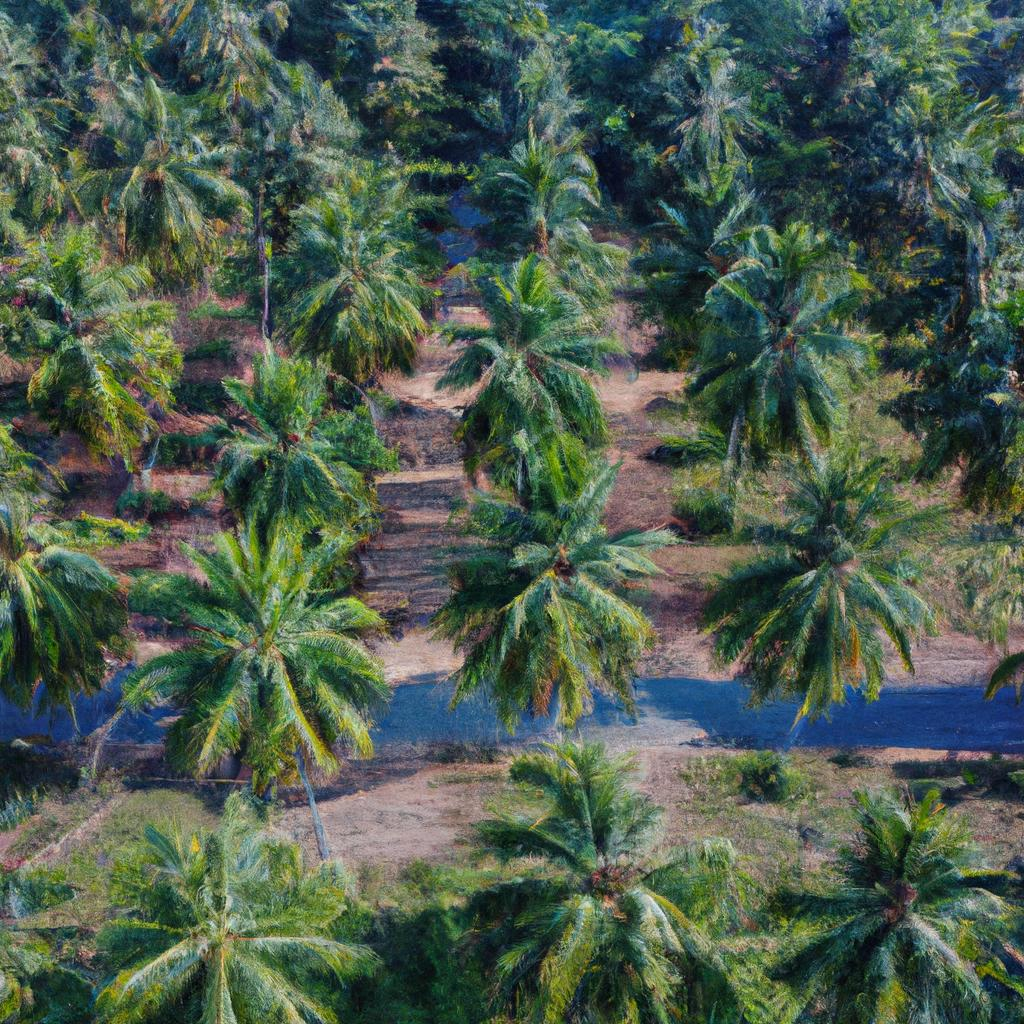coconut_tree: (417, 728, 754, 1023), (119, 524, 408, 789), (747, 761, 1023, 1023), (695, 457, 938, 719), (103, 807, 374, 1023), (454, 483, 662, 731), (665, 245, 897, 462), (1, 235, 193, 472), (200, 337, 420, 524), (446, 277, 630, 486)
